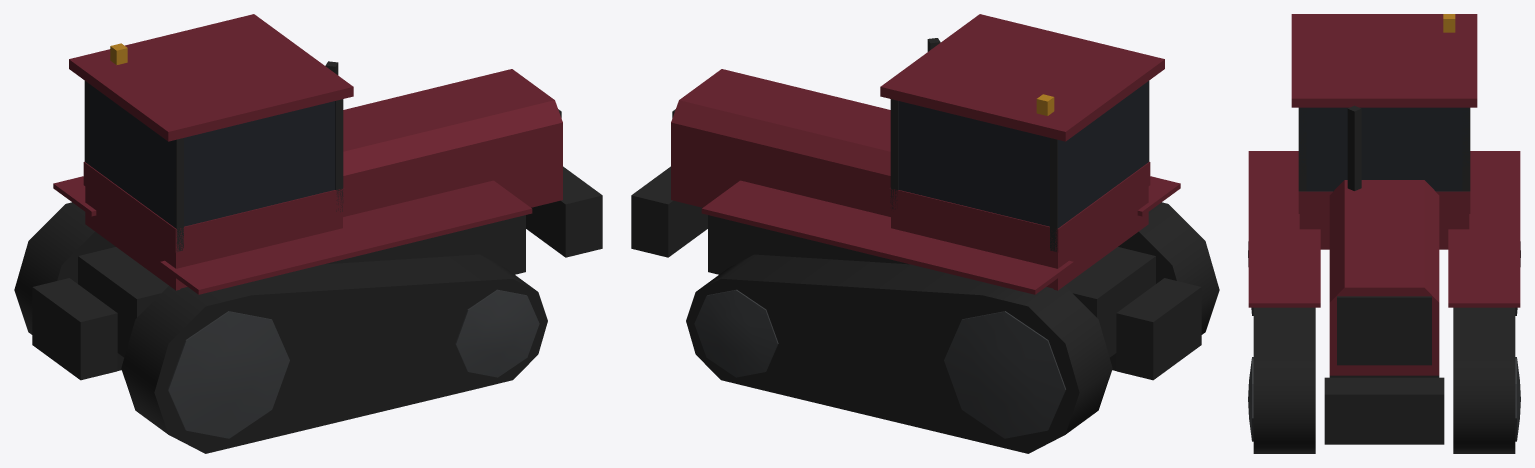
File: SM_Prop_farm_tractortrack_1_LOD1.glb
3 views of the same model, side by side, from view 1: azimuth 30°, elevation 25°; view 2: azimuth 150°, elevation 25°; view 3: azimuth 270°, elevation 25° (orthographic). The views are drawn at different scales.
Parts seen in each view (by area): view 1: SM_Prop_farm_tractortrack_1_LOD1; view 2: SM_Prop_farm_tractortrack_1_LOD1; view 3: SM_Prop_farm_tractortrack_1_LOD1.
Boxes of the visible parts, <box> form: SM_Prop_farm_tractortrack_1_LOD1: <box>14,14,602,453</box>; SM_Prop_farm_tractortrack_1_LOD1: <box>631,14,1219,453</box>; SM_Prop_farm_tractortrack_1_LOD1: <box>1248,14,1520,453</box>.
Size of the model in its own units: 5.55 by 3.37 by 2.73.
